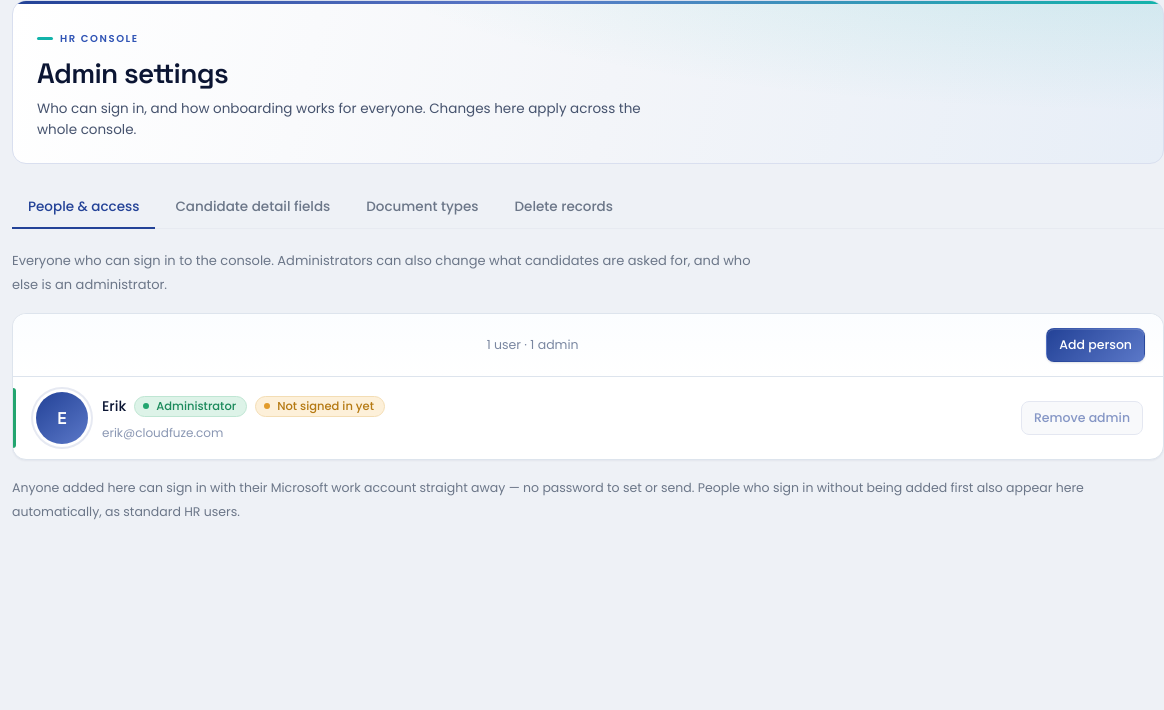
AdminPage › switches to the detail fields without leaving the page
Check: the text "erik@cloudfuze.com" is shown, box [102,424,223,440]
Click the button "Candidate detail fields".
click(253, 208)  # box [159,186,346,229]
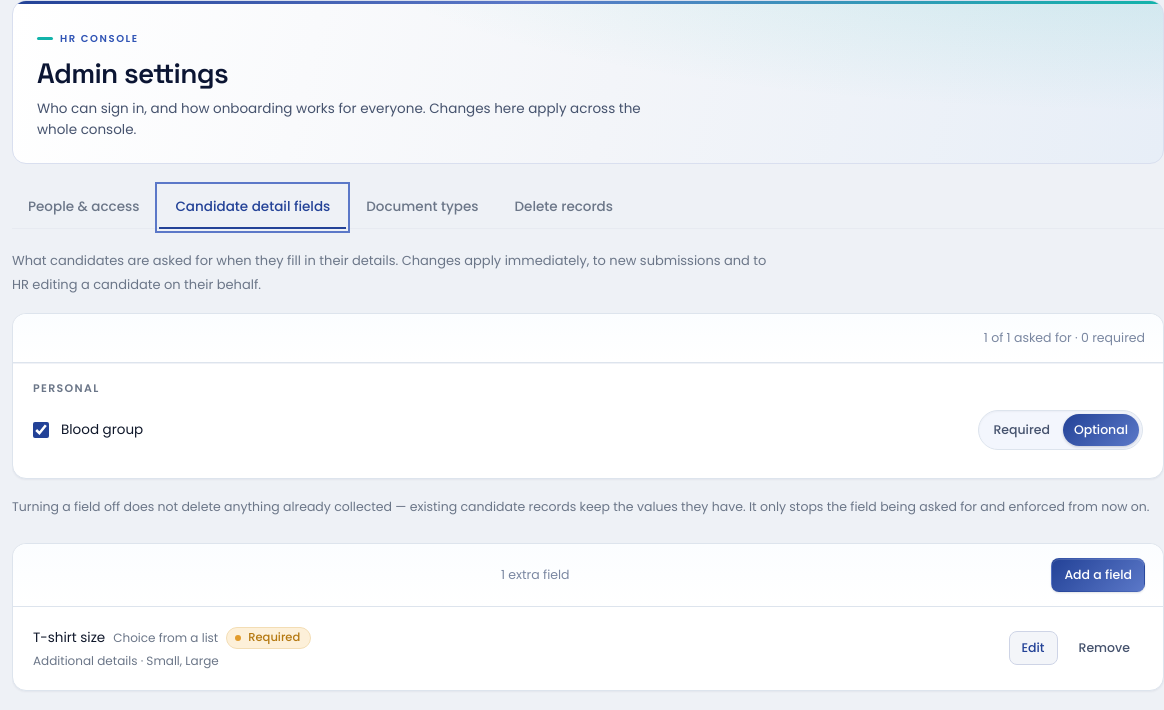
Check: the text "Blood group" is shown, box [61,419,143,441]
Check: the text "T-shirt size" is shown, box [33,627,105,649]
Check: the text "erik@cloudfuze.com" is gone
